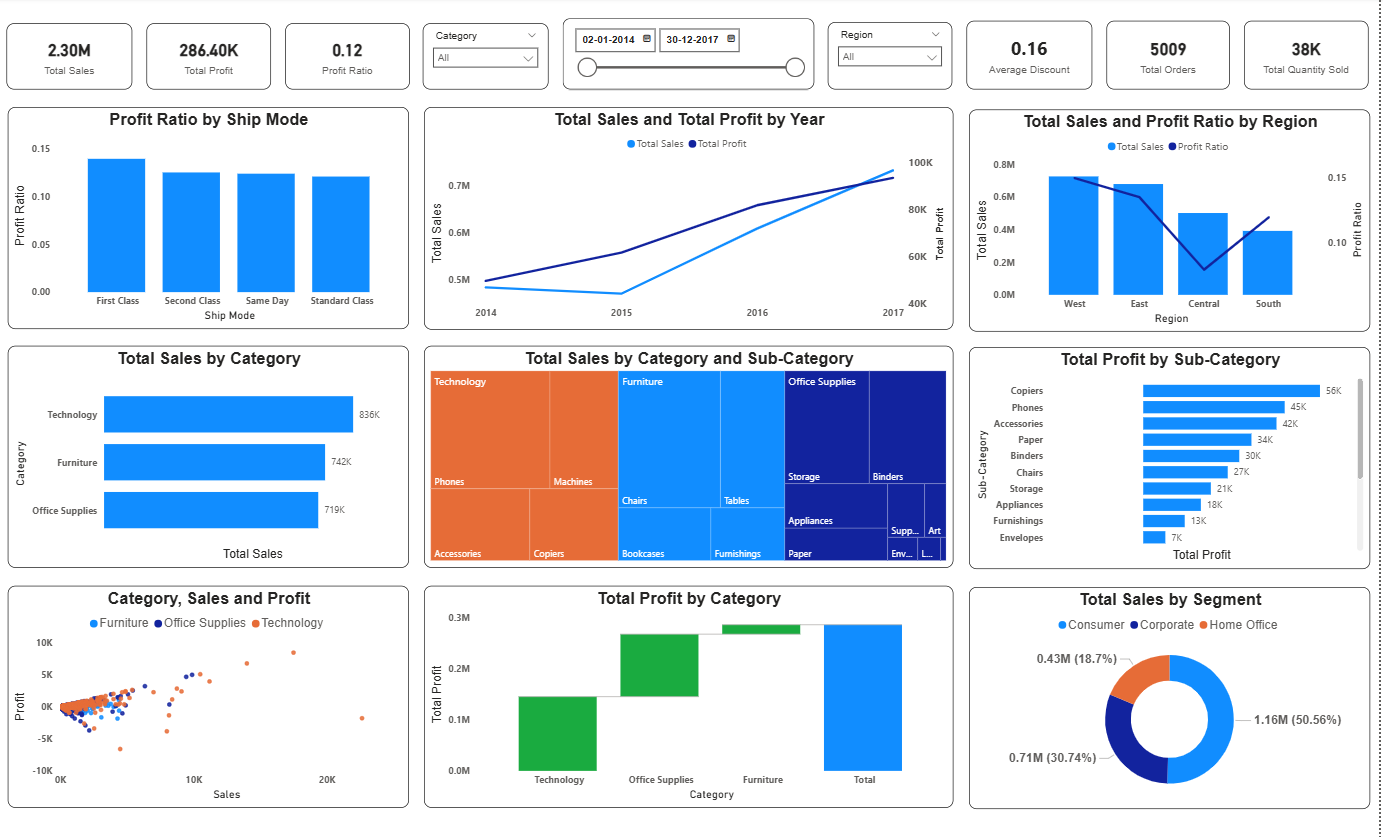

Layout of this report page (visuals, bound fields, positions):
{"tool":"powerbi","page":{"name":"Page 1","canvas":[1800,1100],"ordinal":0},"visuals":[{"type":"card","fields":{"Values":["Sample - Superstore.Total Sales"]},"box":[9.9,34.8,164.1,86.2],"z":0},{"type":"card","fields":{"Values":["Sample - Superstore.Total Profit"]},"box":[192.1,34.8,162.5,86.2],"z":1000},{"type":"card","fields":{"Values":["Sample - Superstore.Profit Ratio"]},"box":[372.6,34.8,162.5,86.2],"z":2000},{"type":"card","fields":{"Values":["Sample - Superstore.Average Discount"]},"box":[1262,31.5,164.1,89.5],"z":3000},{"type":"card","fields":{"Values":["Sample - Superstore.Total Orders"]},"box":[1444.1,31.5,160.8,89.5],"z":4000},{"type":"card","fields":{"Values":["Sample - Superstore.Total Quantity Sold"]},"box":[1623,31.5,162.5,89.5],"z":5000},{"type":"slicer","fields":{"Values":["Sample - Superstore.Category"]},"box":[553.1,34.8,164.1,86.2],"z":6000},{"type":"slicer","fields":{"Values":["Sample - Superstore.Order Date"]},"box":[735.2,28.2,328.2,92.8],"z":7000},{"type":"slicer","fields":{"Values":["Sample - Superstore.Region"]},"box":[1081.5,33.2,162.5,87.9],"z":8000},{"type":"lineChart","fields":{"Category":["Sample - Superstore.Order Date.Variation.Date Hierarchy.Year"],"Y":["Sample - Superstore.Total Sales"],"Y2":["Sample - Superstore.Total Profit"]},"box":[554.3,144.2,690,290],"z":9000},{"type":"treemap","fields":{"Group":["Sample - Superstore.Category"],"Details":["Sample - Superstore.Sub-Category"],"Values":["Sample - Superstore.Total Sales"]},"box":[554.3,454.9,690,289.4],"z":10000},{"type":"waterfallChart","fields":{"Category":["Sample - Superstore.Category"],"Y":["Sample - Superstore.Total Profit"]},"box":[554.3,767.2,690,289.4],"z":11000},{"type":"clusteredBarChart","fields":{"Y":["Sample - Superstore.Total Sales"],"Category":["Sample - Superstore.Category"]},"box":[11.4,454.9,523.3,289.4],"z":12000},{"type":"scatterChart","fields":{"X":["Sample - Superstore.Sales"],"Y":["Sample - Superstore.Profit"],"Series":["Sample - Superstore.Category"]},"box":[11.4,767.2,523.3,289.4],"z":13000},{"type":"clusteredColumnChart","fields":{"Category":["Sample - Superstore.Ship Mode"],"Y":["Sample - Superstore.Profit Ratio"]},"box":[11.4,144.2,523.3,289.4],"z":14000},{"type":"clusteredBarChart","fields":{"Y":["Sample - Superstore.Total Profit"],"Category":["Sample - Superstore.Sub-Category"]},"box":[1265.5,457,523.3,289.4],"z":15000},{"type":"donutChart","fields":{"Category":["Sample - Superstore.Segment"],"Y":["Sample - Superstore.Total Sales"]},"box":[1265.5,769.3,523.3,289.4],"z":16000},{"type":"lineClusteredColumnComboChart","fields":{"Category":["Sample - Superstore.Region"],"Y":["Sample - Superstore.Total Sales"],"Y2":["Sample - Superstore.Profit Ratio"]},"box":[1265.5,146.3,523.3,289.4],"z":17000}]}

Visuals, with their boxes in screenshot pixels (x1, y1, x2, y2), scaled from the page's 1800x1100 canvas onto the 1383x837 screenshot:
card - Sample - Superstore.Total Sales: bbox(8, 26, 134, 92)
card - Sample - Superstore.Total Profit: bbox(148, 26, 272, 92)
card - Sample - Superstore.Profit Ratio: bbox(286, 26, 411, 92)
card - Sample - Superstore.Average Discount: bbox(970, 24, 1096, 92)
card - Sample - Superstore.Total Orders: bbox(1110, 24, 1233, 92)
card - Sample - Superstore.Total Quantity Sold: bbox(1247, 24, 1372, 92)
slicer - Sample - Superstore.Category: bbox(425, 26, 551, 92)
slicer - Sample - Superstore.Order Date: bbox(565, 21, 817, 92)
slicer - Sample - Superstore.Region: bbox(831, 25, 956, 92)
lineChart - Sample - Superstore.Order Date.Variation.Date Hierarchy.Year x Sample - Superstore.Total Sales: bbox(426, 110, 956, 330)
treemap - Sample - Superstore.Category x Sample - Superstore.Sub-Category: bbox(426, 346, 956, 566)
waterfallChart - Sample - Superstore.Category x Sample - Superstore.Total Profit: bbox(426, 584, 956, 804)
clusteredBarChart - Sample - Superstore.Total Sales x Sample - Superstore.Category: bbox(9, 346, 411, 566)
scatterChart - Sample - Superstore.Sales x Sample - Superstore.Profit: bbox(9, 584, 411, 804)
clusteredColumnChart - Sample - Superstore.Ship Mode x Sample - Superstore.Profit Ratio: bbox(9, 110, 411, 330)
clusteredBarChart - Sample - Superstore.Total Profit x Sample - Superstore.Sub-Category: bbox(972, 348, 1374, 568)
donutChart - Sample - Superstore.Segment x Sample - Superstore.Total Sales: bbox(972, 585, 1374, 806)
lineClusteredColumnComboChart - Sample - Superstore.Region x Sample - Superstore.Total Sales: bbox(972, 111, 1374, 332)
